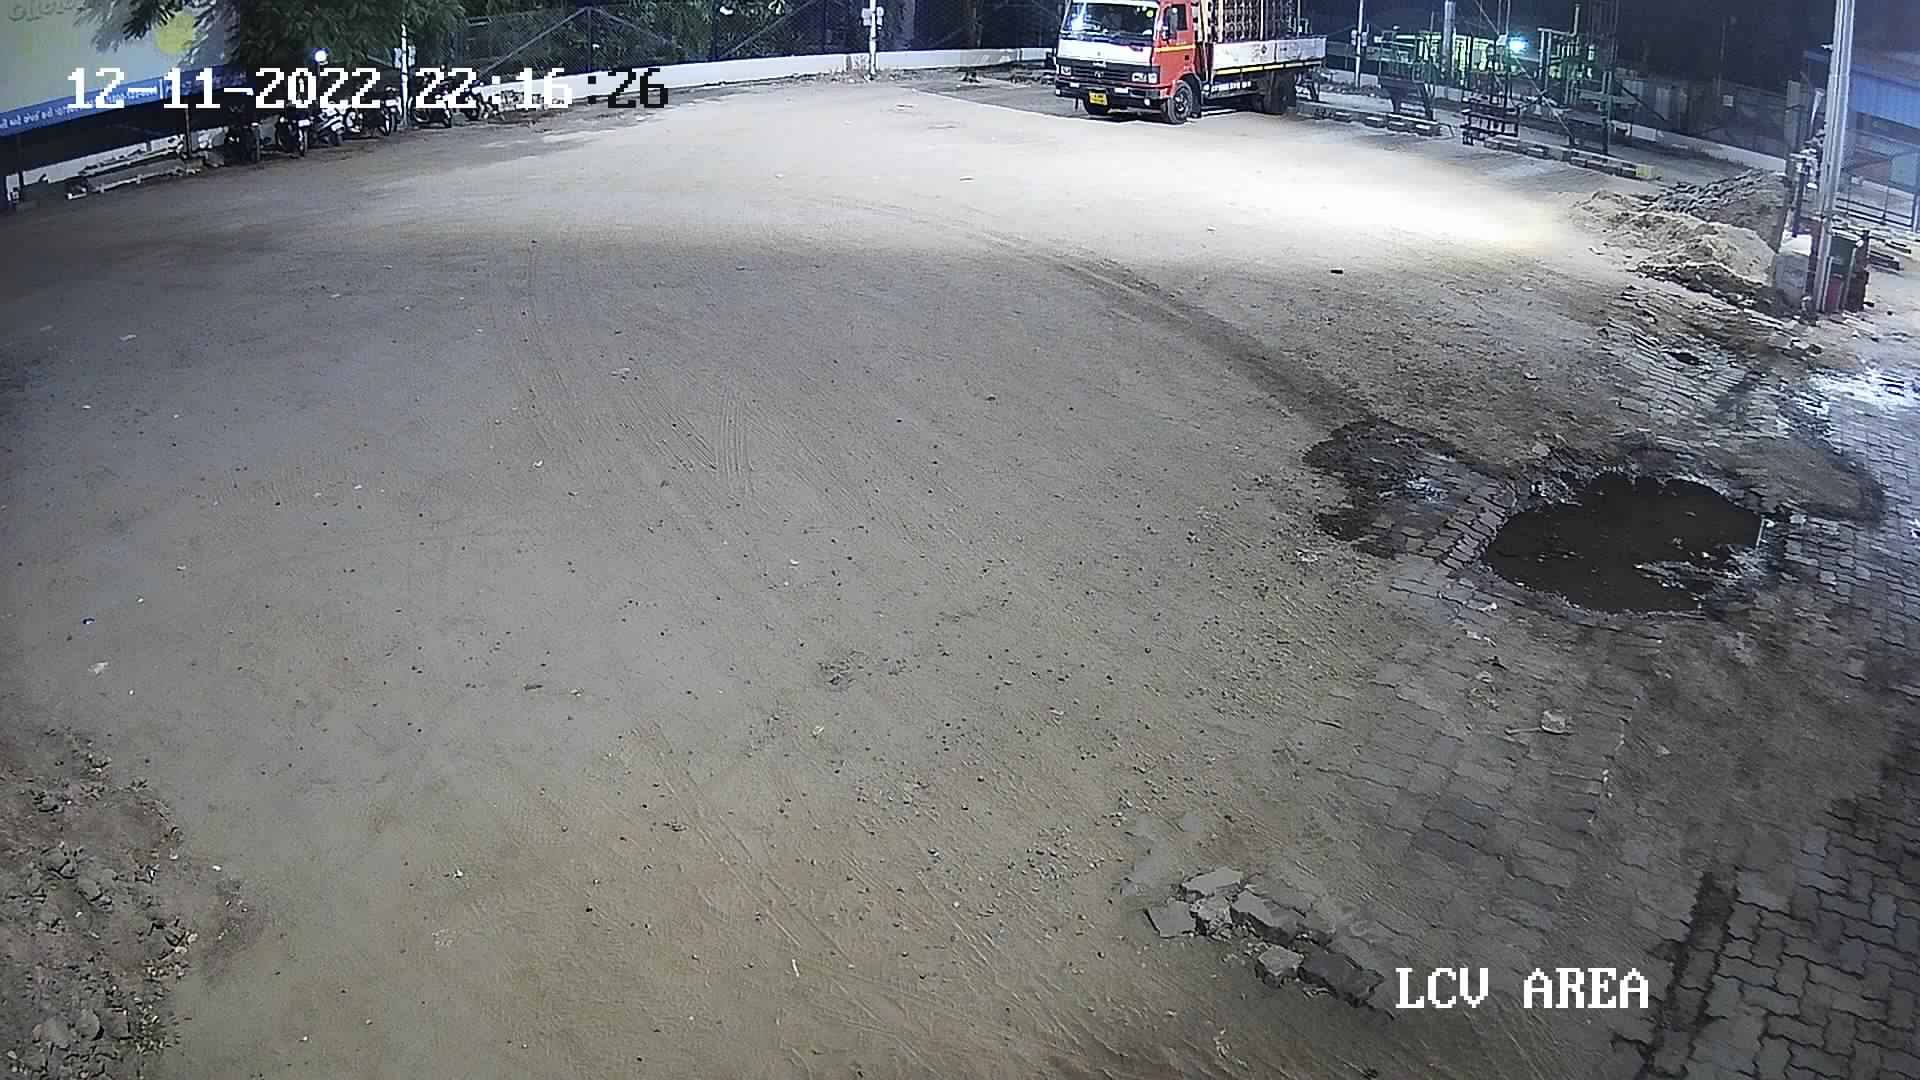HMV: (1036, 0, 1366, 131)
